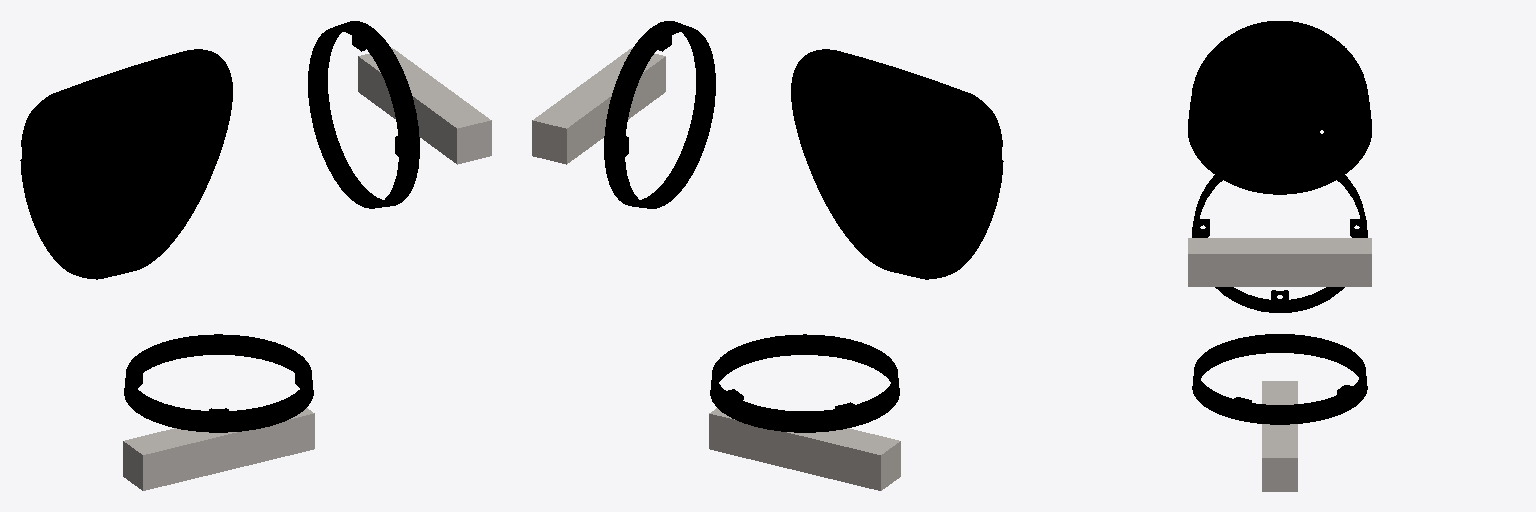
robot.urdf — module17:
<?xml version="1.0" ?>
<!-- =================================================================================== -->
<!-- |    This document was autogenerated by xacro from [local-path]/ros2_crystal/src/mara/mara_description/urdf/module.urdf.xacro | -->
<!-- |    EDITING THIS FILE BY HAND IS NOT RECOMMENDED                                 | -->
<!-- =================================================================================== -->
<robot name="module17" xmlns:xacro="http://www.ros.org/wiki/xacro">
  <material name="black">
    <color rgba="0.0 0.0 0.0 1.0"/>
  </material>
  <material name="blue">
    <color rgba="0.0 0.0 0.8 1.0"/>
  </material>
  <material name="green">
    <color rgba="0.0 0.8 0.0 1.0"/>
  </material>
  <material name="grey">
    <color rgba="0.2 0.2 0.2 1.0"/>
  </material>
  <material name="orange">
    <color rgba="1.0 0.423529411765 0.0392156862745 1.0"/>
  </material>
  <material name="brown">
    <color rgba="0.870588235294 0.811764705882 0.764705882353 1.0"/>
  </material>
  <material name="red">
    <color rgba="0.8 0.0 0.0 1.0"/>
  </material>
  <material name="white">
    <color rgba="1.0 1.0 1.0 1.0"/>
  </material>
  <material name="metal">
    <color rgba="0.768627450980392 0.749019607843137 0.729411764705882 1"/>
  </material>
  <material name="metal_grey">
    <color rgba="0.501960784313725 0.501960784313725 0.501960784313725 1"/>
  </material>
  <material name="metal_white">
    <color rgba="0.866666666666667 0.866666666666667 0.890196078431373 1"/>
  </material>
  <link name="world"/>
  <joint name="elfin_module_base_joint" type="fixed">
    <origin rpy="0 0 0" xyz="0 0 0.5"/>
    <parent link="world"/>
    <child link="elfin_module_14"/>
  </joint>
  <link name="elfin_module_14">
    <inertial>
      <origin rpy="0 0 0" xyz="-0.0158710385319 -0.0365214098995 4.94388107361e-07"/>
      <mass value="2.49371418225"/>
      <inertia ixx="0.0059859171" ixy="0.0014567805" ixz="6.18e-08" iyy="0.0034872813" iyz="-3.399e-07" izz="0.0075907395"/>
    </inertial>
    <visual>
      <origin rpy="0 0 0" xyz="0 0 0"/>
      <geometry>
        <mesh filename="model://mara_description/meshes/MARA_T49.stl" scale="0.001 0.001 0.001"/>
      </geometry>
      <material name="metal"/>
    </visual>
    <collision>
      <origin rpy="0 0 0" xyz="0 0 0"/>
      <geometry>
        <mesh filename="model://mara_description/meshes/MARA_T49.stl" scale="0.001 0.001 0.001"/>
      </geometry>
    </collision>
  </link>
  <link name="motor_cover">
    <inertial>
      <origin rpy="0 0 0" xyz="8.625E-08 -4.6583E-06 0.03145"/>
      <mass value="0.2"/>
      <inertia ixx="0.04517" ixy="0.00002" ixz="0.0" iyy="0.01587" iyz="0.01444" izz="0.03303"/>
    </inertial>
    <visual>
      <origin rpy="0 0 0" xyz="0 0 0"/>
      <geometry>
        <mesh filename="model://mara_description/meshes/MARA_T49_Black.stl" scale="0.001 0.001 0.001"/>
      </geometry>
      <material name="Gazebo/Black">
        <color rgba="0. 0. 0. 1"/>
      </material>
    </visual>
    <collision>
      <origin rpy="0 0 0" xyz="0 0 0"/>
      <geometry>
        <mesh filename="model://mara_description/meshes/MARA_T49_Black.stl" scale="0.001 0.001 0.001"/>
      </geometry>
    </collision>
  </link>
  <gazebo reference="motor_cover">
    <material>Gazebo/Black</material>
    <selfCollide>True</selfCollide>
  </gazebo>
  <link name="dummy_link1">
    <inertial>
      <origin rpy="0 0 0" xyz="0 0 0"/>
      <mass value="0.01"/>
      <inertia ixx="0.0001" ixy="0" ixz="0" iyy="0.0001" iyz="0" izz="0.0001"/>
    </inertial>
    <visual>
      <origin rpy="0 0 0" xyz="0 0 0"/>
      <geometry>
        <box size="0.02 0.1 0.02"/>
      </geometry>
      <material name="metal"/>
    </visual>
    <collision>
      <origin rpy="0 0 0" xyz="0 0 0"/>
      <geometry>
        <box size="0.02 0.1 0.02"/>
      </geometry>
    </collision>
  </link>
  <joint name="motor1" type="revolute">
    <origin rpy="0 -1.57079632679 0" xyz="0.12 0 0.16074"/>
    <parent link="elfin_module_14"/>
    <child link="dummy_link1"/>
    <axis xyz="0 0 1"/>
    <limit effort="34" lower="-3.14" upper="3.14" velocity="1.57"/>
  </joint>
  <link name="dummy_link2">
    <inertial>
      <origin rpy="0 0 0" xyz="0 0 0"/>
      <mass value="0.01"/>
      <inertia ixx="0.0001" ixy="0" ixz="0" iyy="0.0001" iyz="0" izz="0.0001"/>
    </inertial>
    <visual>
      <origin rpy="0 0 0" xyz="0 0 0"/>
      <geometry>
        <box size="0.1 0.02 0.02"/>
      </geometry>
      <material name="metal"/>
    </visual>
    <collision>
      <origin rpy="0 0 0" xyz="0 0 0"/>
      <geometry>
        <box size="0.1 0.02 0.02"/>
      </geometry>
    </collision>
  </link>
  <joint name="motor2" type="revolute">
    <origin rpy="1.57079632679 0 0" xyz="0 0 0"/>
    <parent link="elfin_module_14"/>
    <child link="dummy_link2"/>
    <axis xyz="0 1 0"/>
    <limit effort="34" lower="-3.14" upper="3.14" velocity="1.57"/>
  </joint>
  <joint name="motor_cover_joint" type="fixed">
    <origin rpy="0 0 0" xyz="0 0 0.0"/>
    <parent link="elfin_module_14"/>
    <child link="motor_cover"/>
  </joint>
  <gazebo>
    <plugin filename="libmara_gazebo_joint_plugin.so" name="hros_actuation_servomotor_000000000001">
      <ros/>
      <axis1>motor2</axis1>
      <axis2>motor1</axis2>
      <type>series14</type>
    </plugin>
  </gazebo>
</robot>

--- Render facts (derived) ---
Views: 3 orthographic renders of the robot side by side, from view 1: azimuth 30°, elevation 25°; view 2: azimuth 150°, elevation 25°; view 3: azimuth 270°, elevation 25°.
Robot: module17 — 5 links, 4 joints (2 revolute, 2 fixed); root link world; default pose: every joint at zero.
Links seen in each view (by area): view 1: motor_cover, dummy_link2, dummy_link1; view 2: motor_cover, dummy_link2, dummy_link1; view 3: motor_cover, dummy_link1, dummy_link2.
Link boxes in pixels (x1=…): motor_cover: x1=20, y1=21, x2=419, y2=432; dummy_link2: x1=123, y1=408, x2=314, y2=490; dummy_link1: x1=358, y1=48, x2=491, y2=164; motor_cover: x1=604, y1=21, x2=1003, y2=432; dummy_link2: x1=709, y1=408, x2=900, y2=490; dummy_link1: x1=532, y1=48, x2=665, y2=164; motor_cover: x1=1188, y1=21, x2=1371, y2=424; dummy_link1: x1=1188, y1=238, x2=1371, y2=286; dummy_link2: x1=1262, y1=381, x2=1297, y2=491.
Bounding box of the posed robot: 0.2241 × 0.1008 × 0.2272 m (x, y, z).
1 mesh visuals loaded from 2 distinct referenced files (1 binary STL); not drawn: 1 (reference not matched to a file when rendering).
